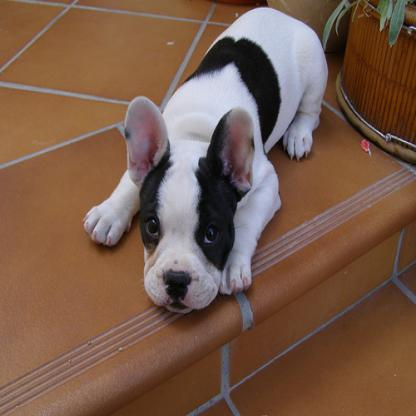French_bulldog: (83, 6, 329, 315)
